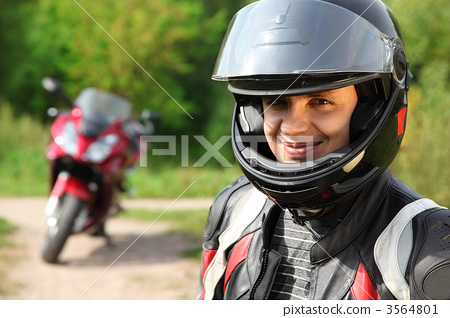helmet: (222, 7, 411, 196)
